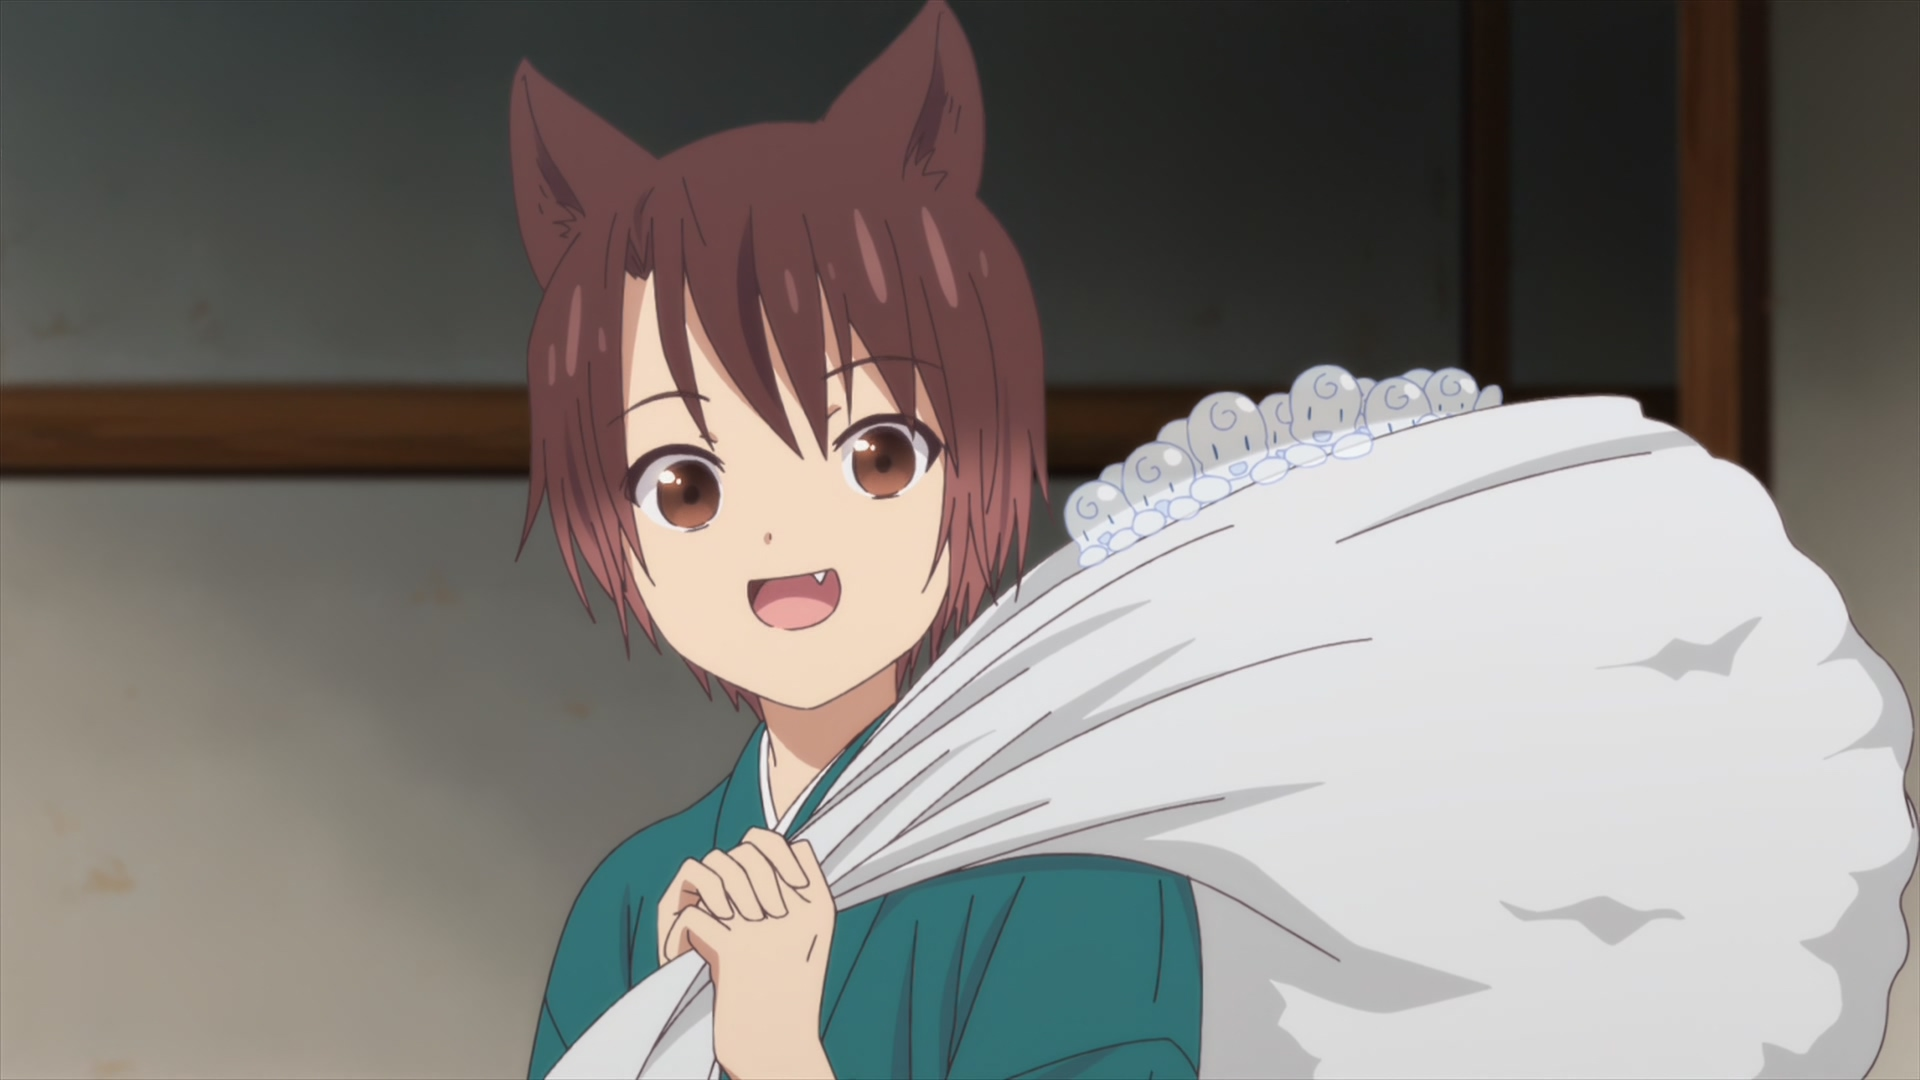枣: (504, 1, 1207, 1080)
